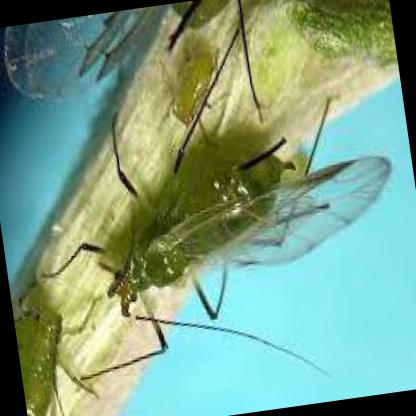uroleucon compositae: (110, 132, 390, 319)
